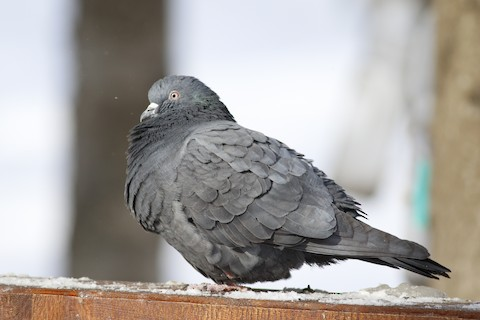pigeon: (123, 71, 454, 295)
